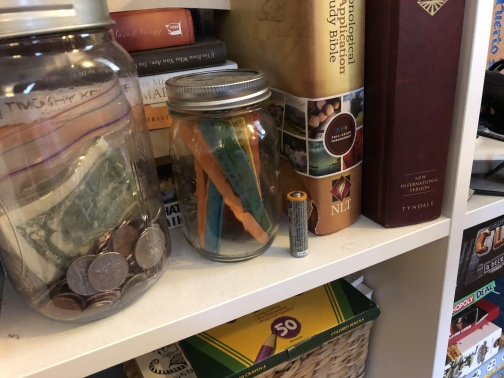battery: (278, 187, 318, 261)
